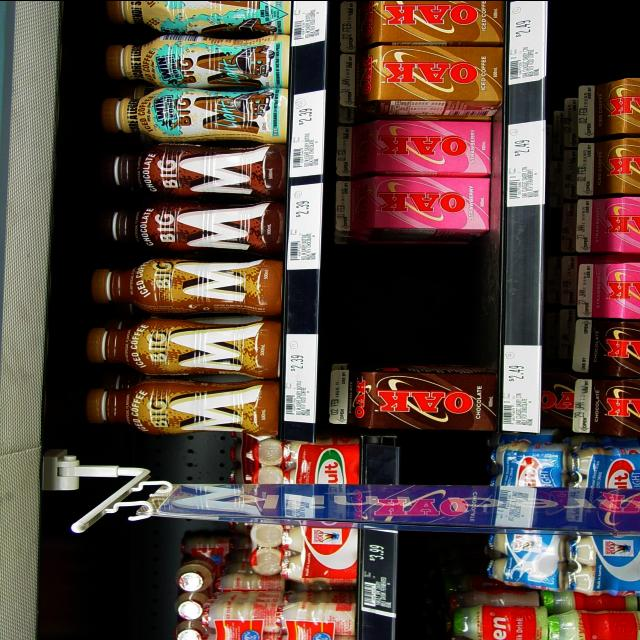empty_space: (329, 246, 481, 362), (570, 0, 638, 79)
